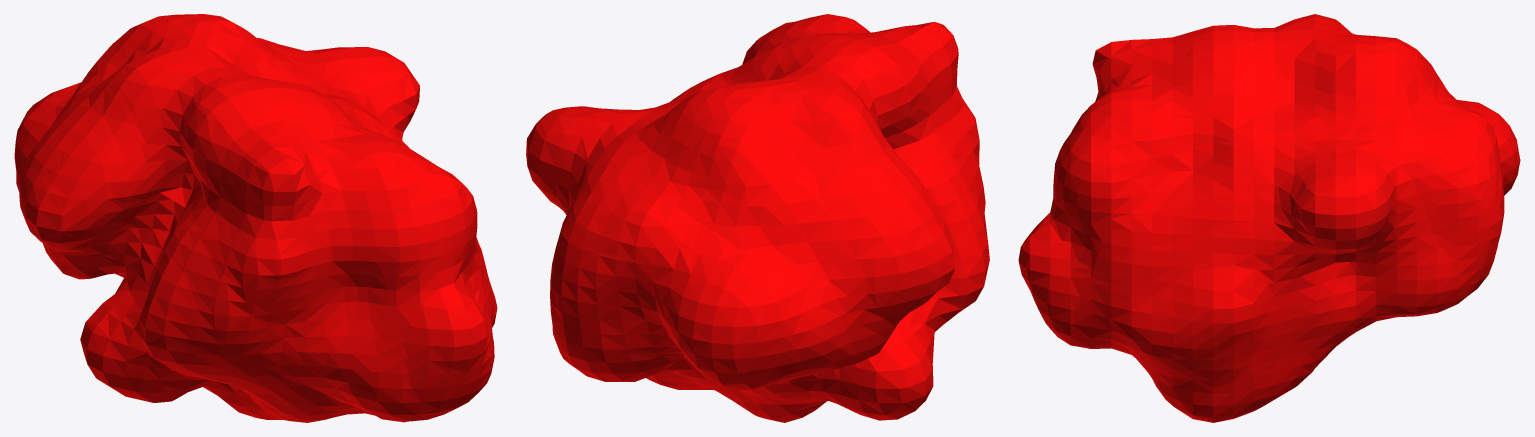
Rendered from cysM_coarse.dae.
3 views of the same model, side by side, from view 1: azimuth 30°, elevation 25°; view 2: azimuth 150°, elevation 25°; view 3: azimuth 270°, elevation 25° (orthographic). The views are drawn at different scales.
Visible parts, largest first — view 1: cysM; view 2: cysM; view 3: cysM.
Boxes of the visible parts, <box> form: cysM: <box>14,14,497,422</box>; cysM: <box>526,14,989,422</box>; cysM: <box>1018,14,1520,422</box>.
Bounding box in the file's own units: 50.28 × 44.76 × 63.48.
